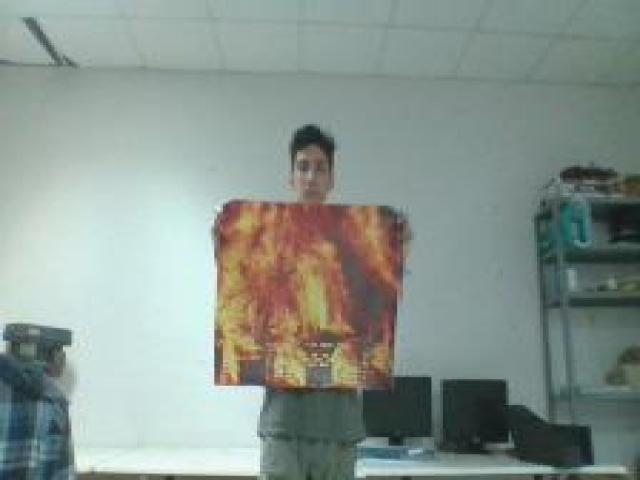fire-poster: (208, 197, 412, 392)
